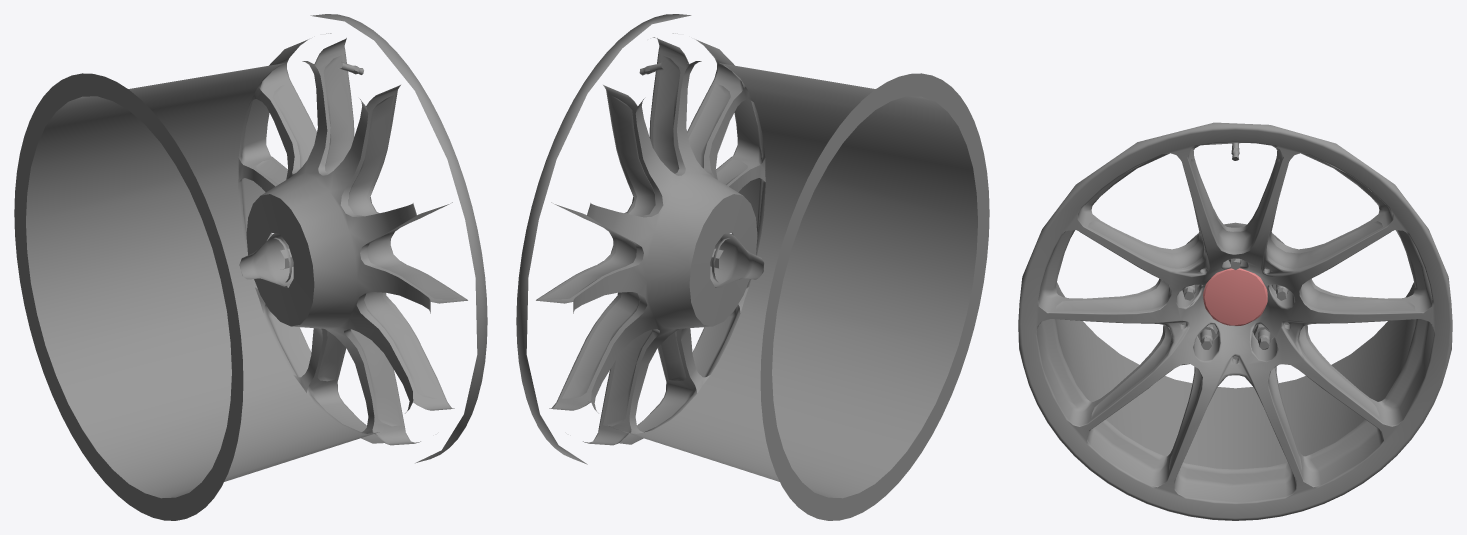
The model's file is mercedes_amg_gt4_rim_lr_Lod1.gltf.
3 views of the same model, side by side, from view 1: azimuth 30°, elevation 25°; view 2: azimuth 150°, elevation 25°; view 3: azimuth 270°, elevation 25° (orthographic). The views are drawn at different scales.
Parts seen in each view (by area): view 1: mercedes_amg_gt4_rim_lr_Lod1; view 2: mercedes_amg_gt4_rim_lr_Lod1; view 3: mercedes_amg_gt4_rim_lr_Lod1.
Boxes of the visible parts, x1,y1,x2,y2 form: mercedes_amg_gt4_rim_lr_Lod1: (14, 14, 487, 520); mercedes_amg_gt4_rim_lr_Lod1: (516, 14, 989, 520); mercedes_amg_gt4_rim_lr_Lod1: (1018, 122, 1452, 520).
Bounding box in the file's own units: 0.3063 × 0.4976 × 0.4976.
